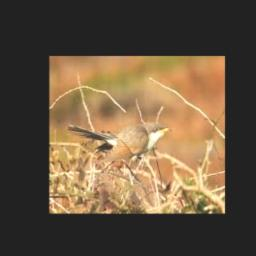Cuckoo: (68, 123, 173, 161)
